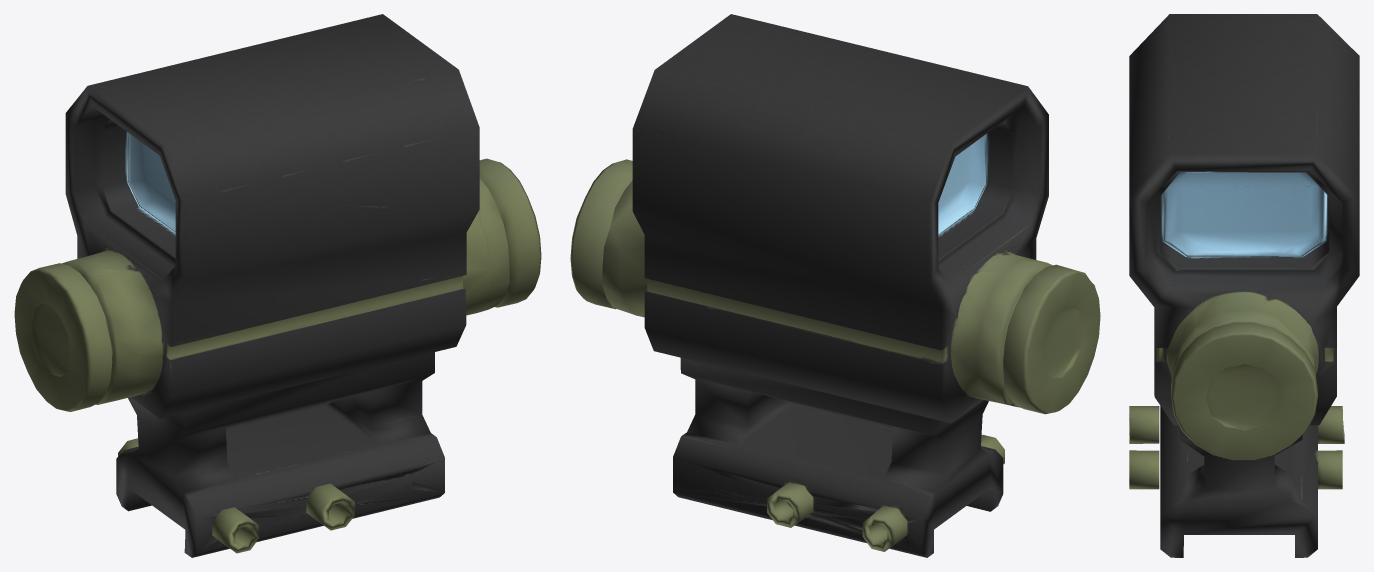
The model's file is sight_holo.glb.
3 views of the same model, side by side, from view 1: azimuth 30°, elevation 25°; view 2: azimuth 150°, elevation 25°; view 3: azimuth 270°, elevation 25° (orthographic). The views are drawn at different scales.
Bounding box in the file's own units: 0.9565 × 0.8535 × 0.4321.
Materials: 1 (1 with a texture image).
